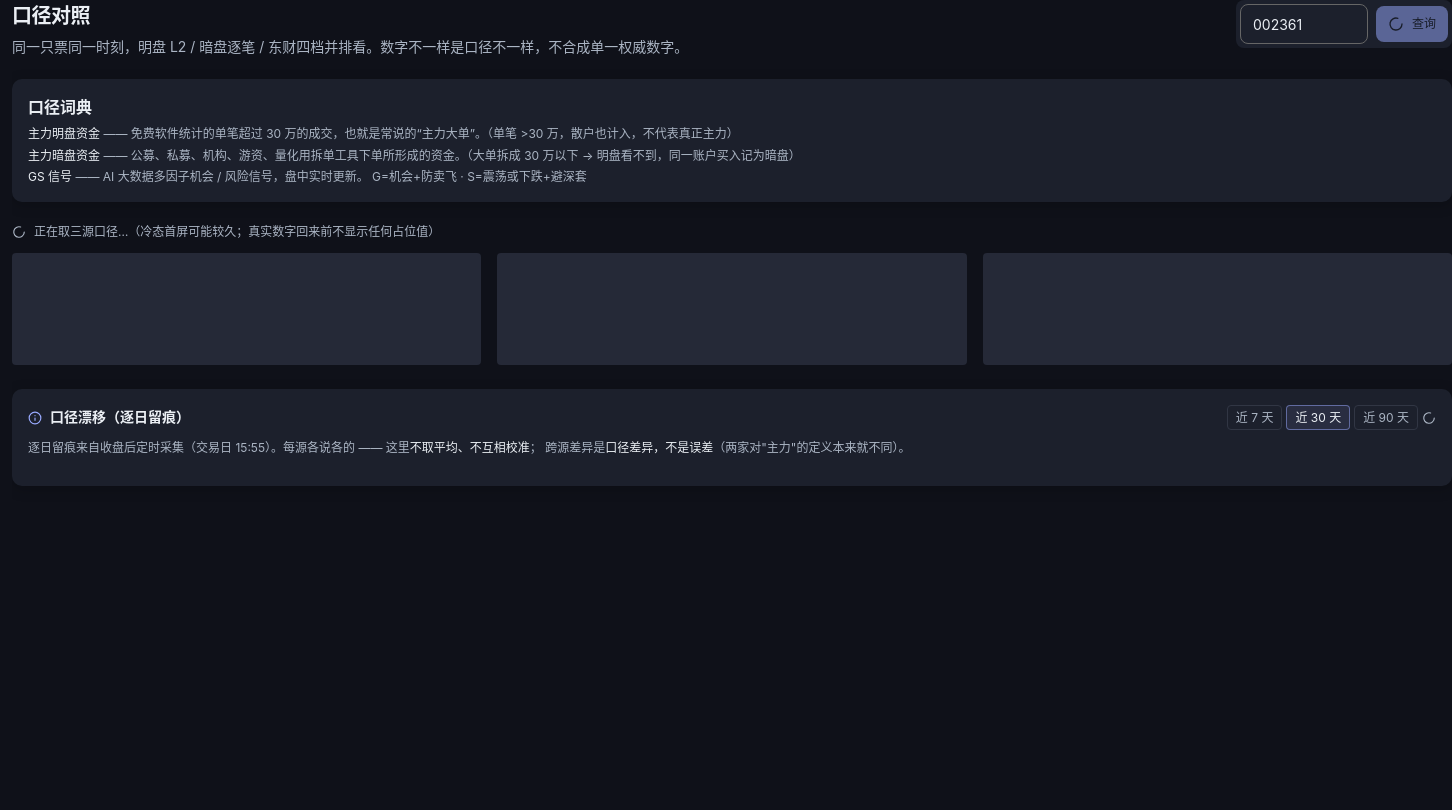
Test case: 口径对照页 · 首屏冷加载链(perf 回归) › 竞态守卫: 被更新一轮取代后, 旧的对照响应不落地
The width and height of the screenshot is (1452, 810).
Replace the text in the field named "股票代码" with "600519". click: (1304, 24)
box: [1240,4,1368,44]
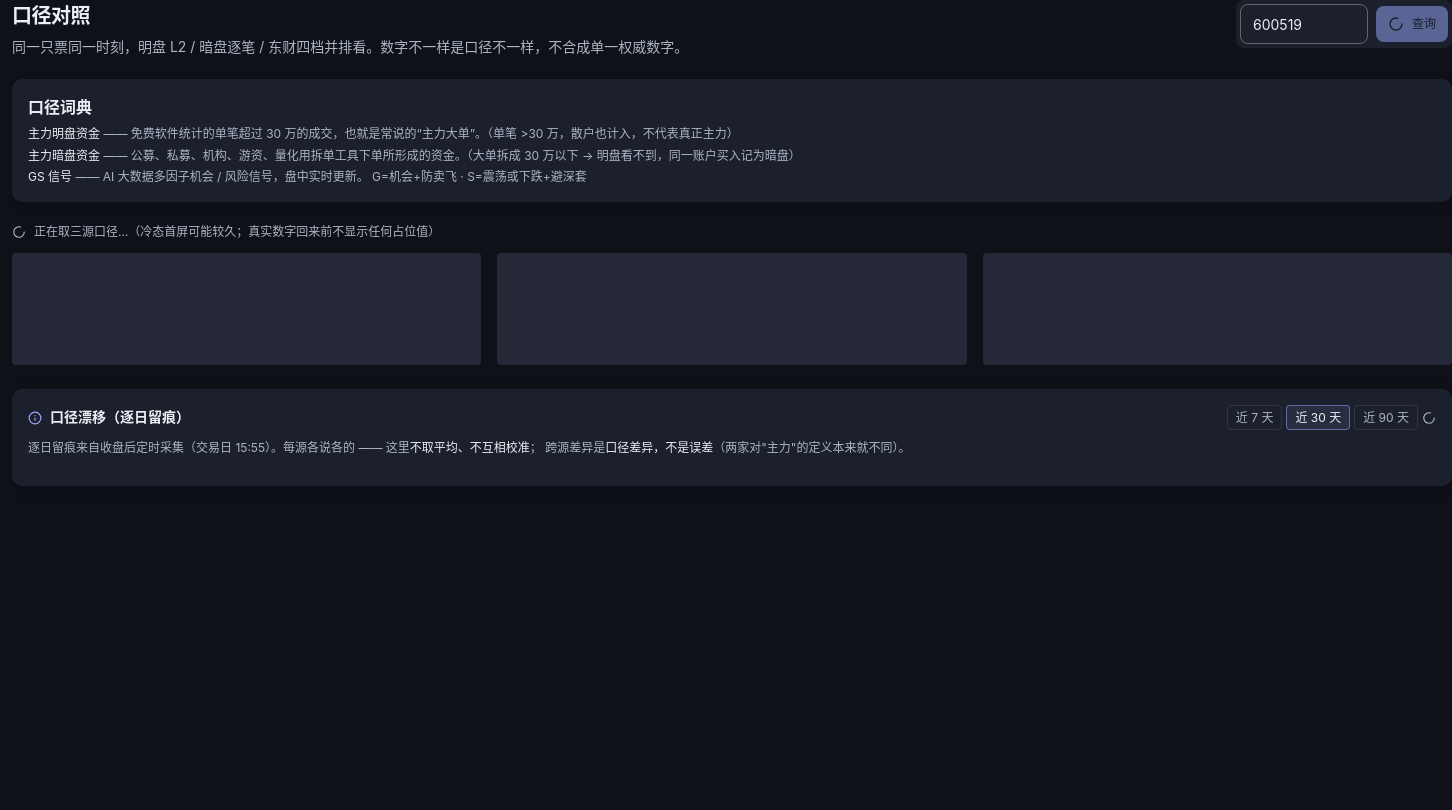
Press Enter in the field named "股票代码", box [1240,4,1368,44]
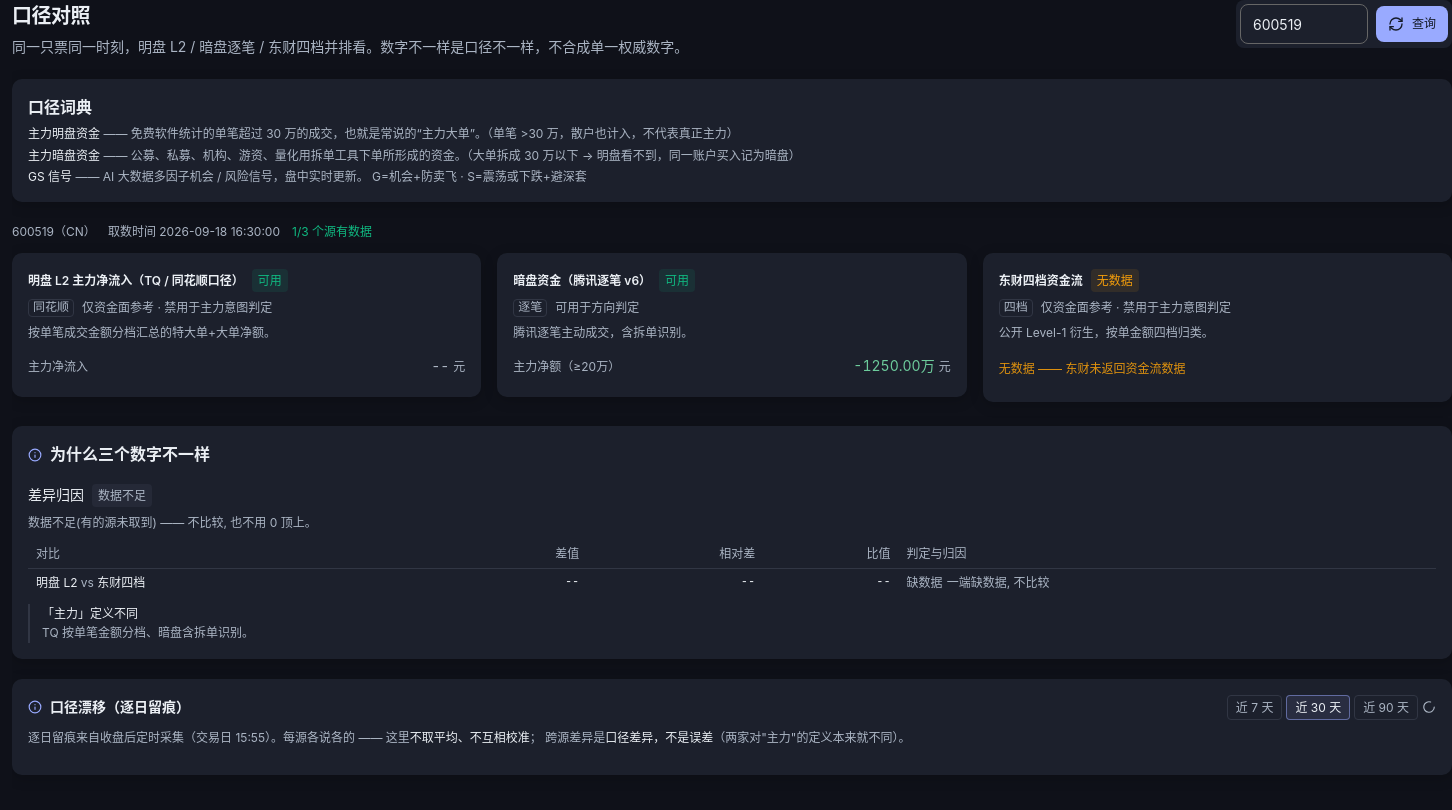
Result: the text "600519（CN）" is shown at [12,222,96,241]
